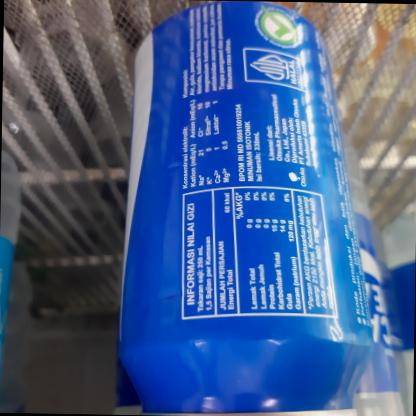alumunium_can: (97, 2, 406, 416)
